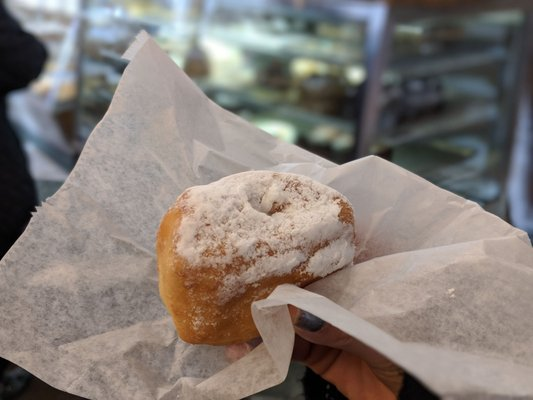salad: (155, 170, 357, 347)
